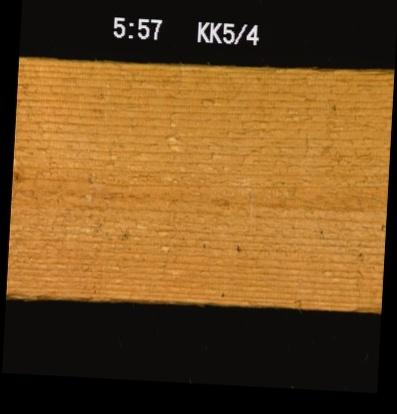small_knot: (11, 164, 21, 185)
wave: (344, 300, 379, 311)
